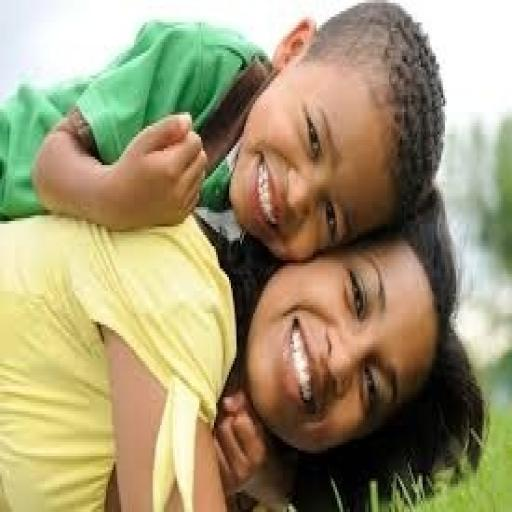hugging: (0, 3, 475, 509)
